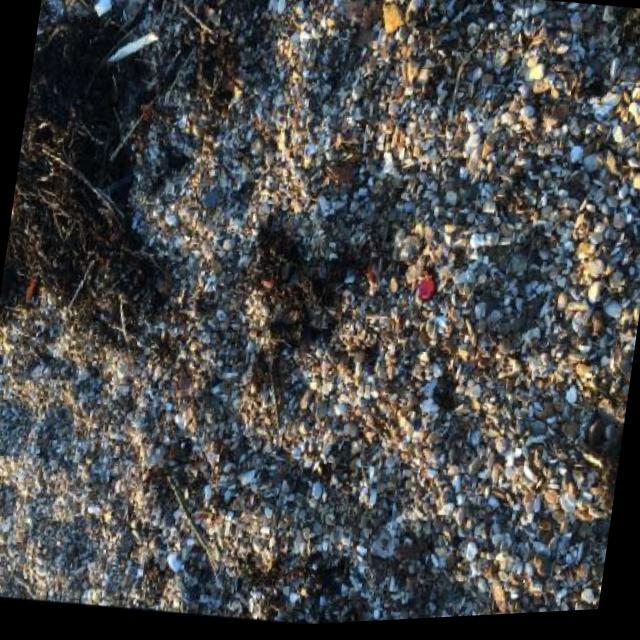plastic: (418, 278, 436, 302)
